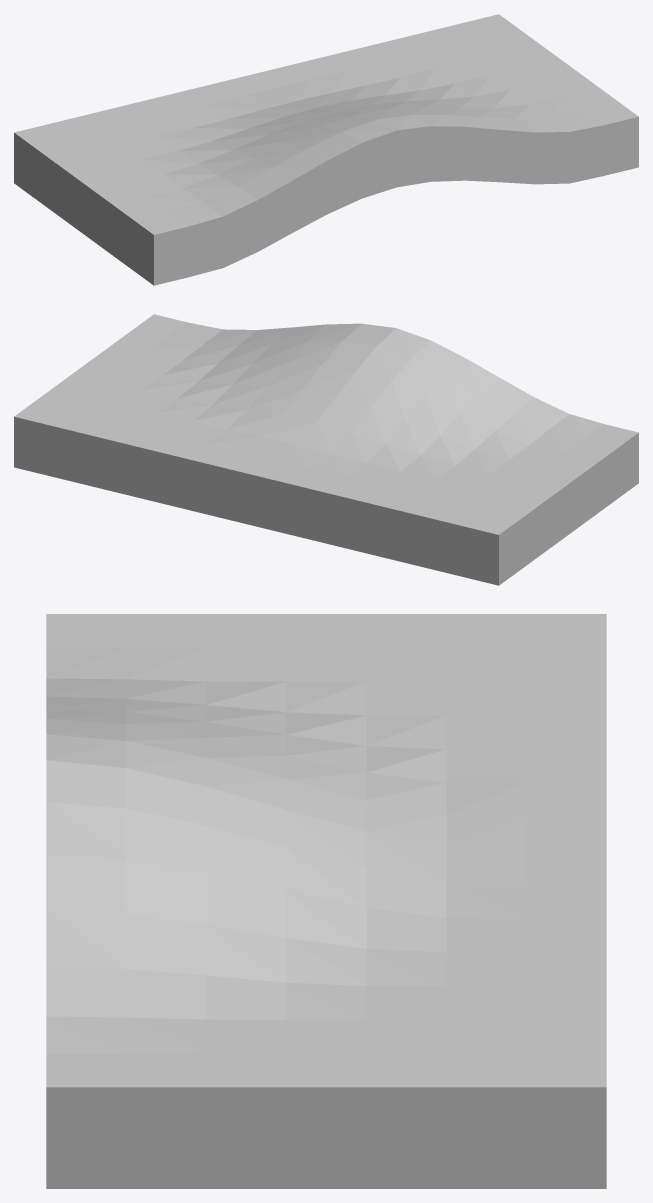
Rendered from RectLiftedEdge_80x40x8.fbx.
3 renders of one model, top to bottom at view 1: azimuth 30°, elevation 25°; view 2: azimuth 150°, elevation 25°; view 3: azimuth 270°, elevation 25°, orthographic. The views are drawn at different scales.
Visible parts, largest first — view 1: RectLiftedEdge_80x40x8; view 2: RectLiftedEdge_80x40x8; view 3: RectLiftedEdge_80x40x8.
Boxes of the visible parts, x1,y1,x2,y2 form: RectLiftedEdge_80x40x8: (14, 14, 638, 285); RectLiftedEdge_80x40x8: (14, 314, 638, 585); RectLiftedEdge_80x40x8: (46, 614, 606, 1188).
Bounding box in the file's own units: 80 × 40 × 15.14.
